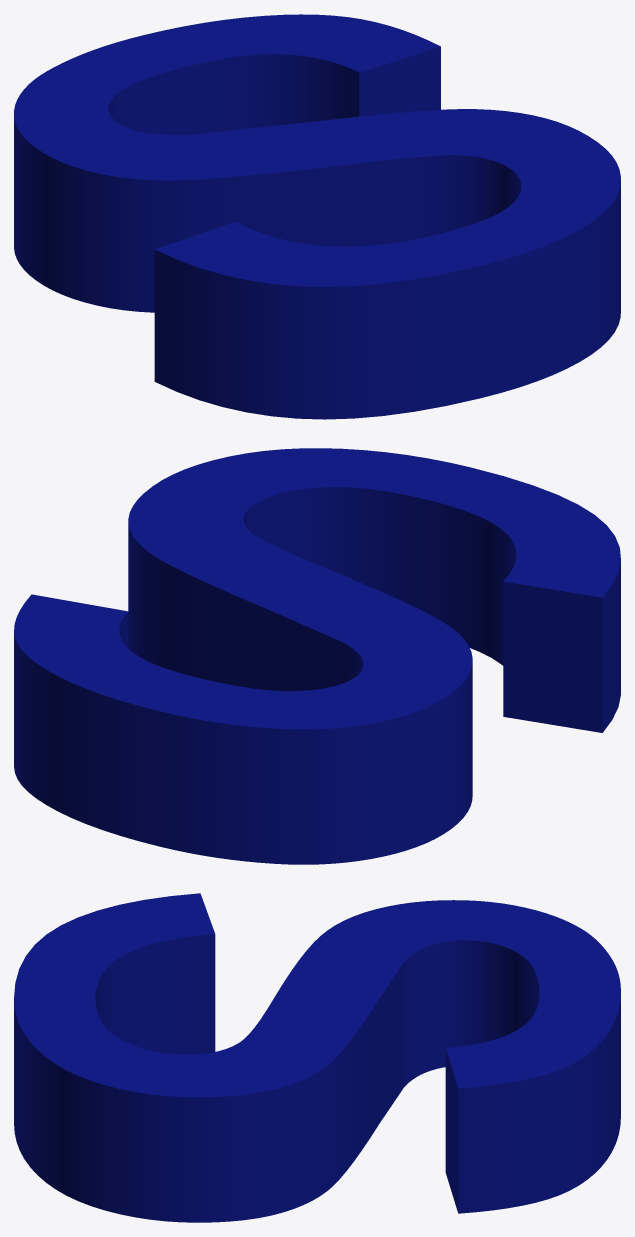
3 views of the same model, one above another, from view 1: azimuth 30°, elevation 25°; view 2: azimuth 150°, elevation 25°; view 3: azimuth 270°, elevation 25° (orthographic). The views are drawn at different scales.
Parts seen in each view (by area): view 1: TextPlus067; view 2: TextPlus067; view 3: TextPlus067.
Part boxes in pixels (x1=…): TextPlus067: x1=14, y1=14, x2=620, y2=419; TextPlus067: x1=14, y1=448, x2=620, y2=864; TextPlus067: x1=14, y1=893, x2=620, y2=1222.
Bounding box in the file's own units: 15.44 × 4.42 × 19.4.
